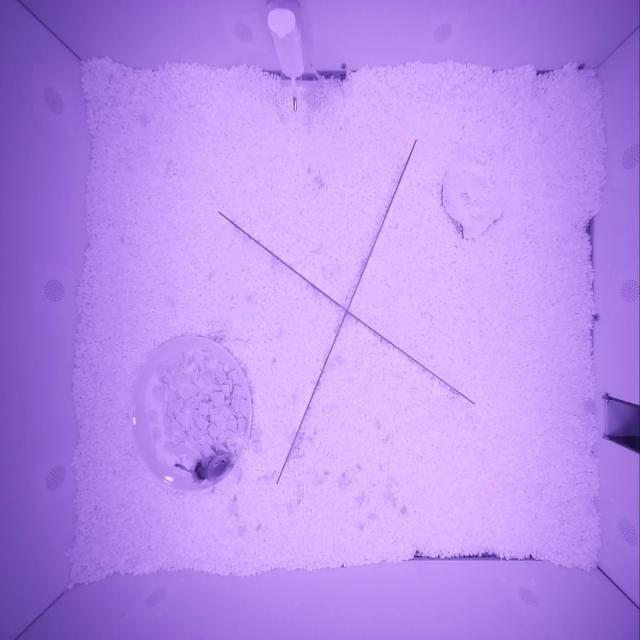pup_h_stripe: (191, 454, 231, 483)
